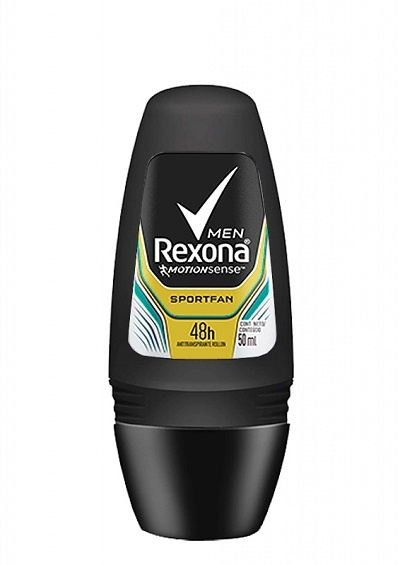rexona: (107, 78, 289, 539)
